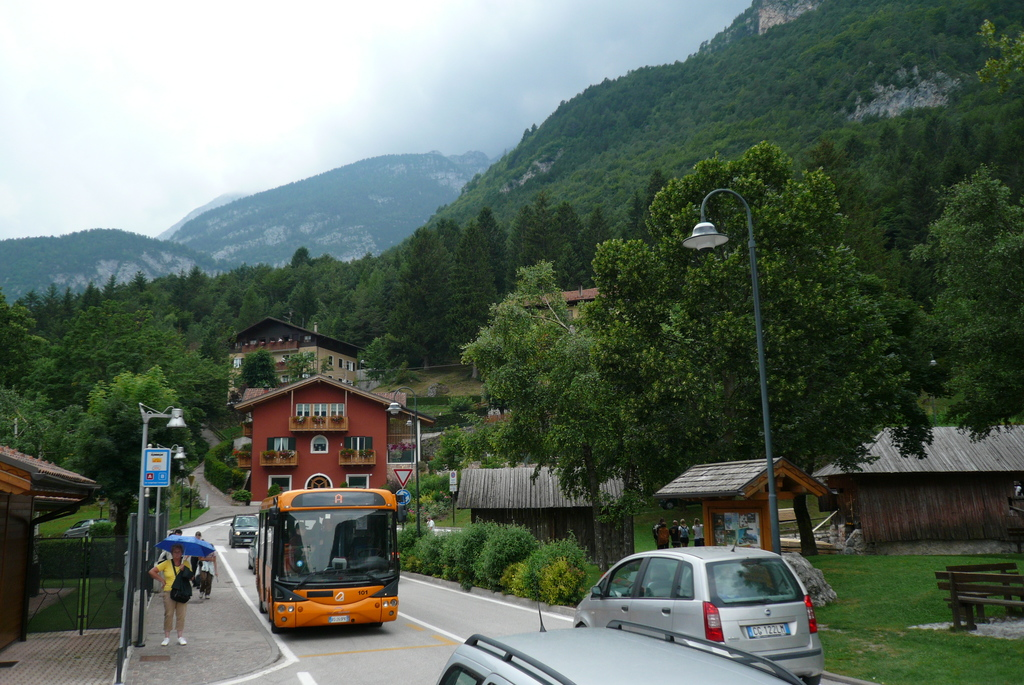Car: (437, 541, 806, 684), (570, 540, 826, 684), (229, 514, 255, 546)
